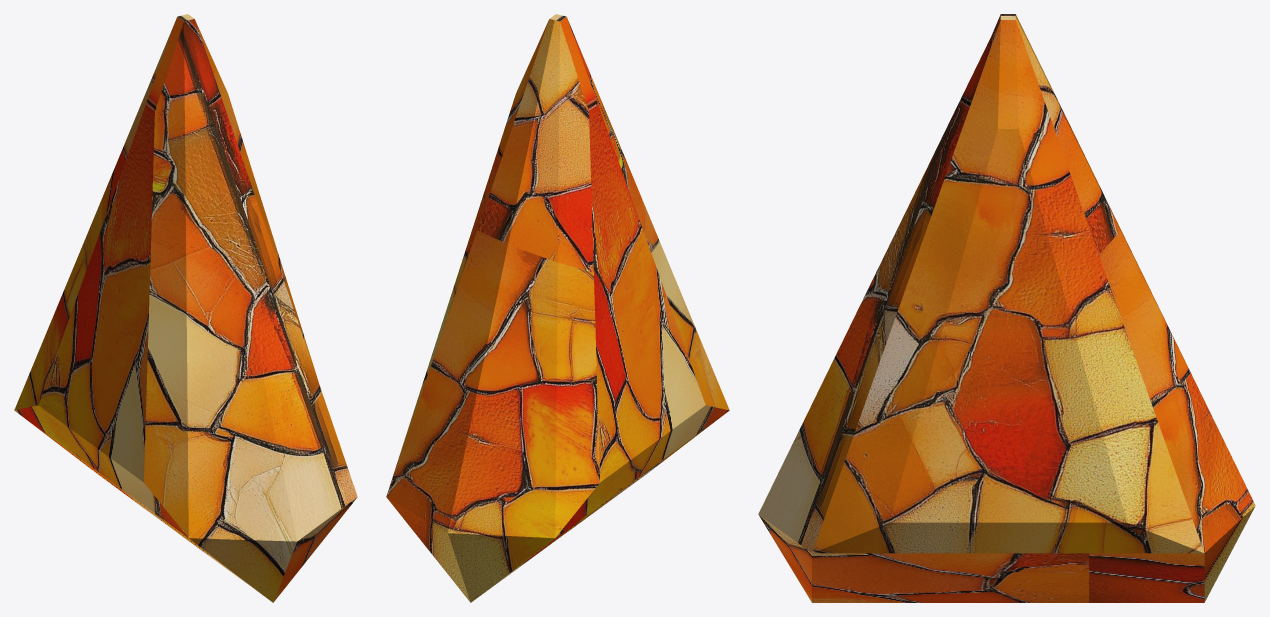
Rendered from gemstone4OrangeCompressed.glb.
3 renders of one model, left to right at view 1: azimuth 30°, elevation 25°; view 2: azimuth 150°, elevation 25°; view 3: azimuth 270°, elevation 25°, orthographic. The views are drawn at different scales.
Visible parts, largest first — view 1: gemstone3; view 2: gemstone3; view 3: gemstone3.
Part boxes in pixels (box(x1,y1,x2,y2)): gemstone3: box(14, 14, 357, 602); gemstone3: box(386, 14, 729, 602); gemstone3: box(758, 14, 1255, 602).
Size of the model in its own units: 0.5 by 1.3 by 1.
1 material, 1 textured.
